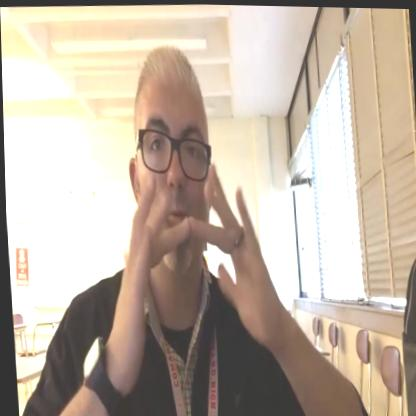Internet: (103, 154, 286, 389)
